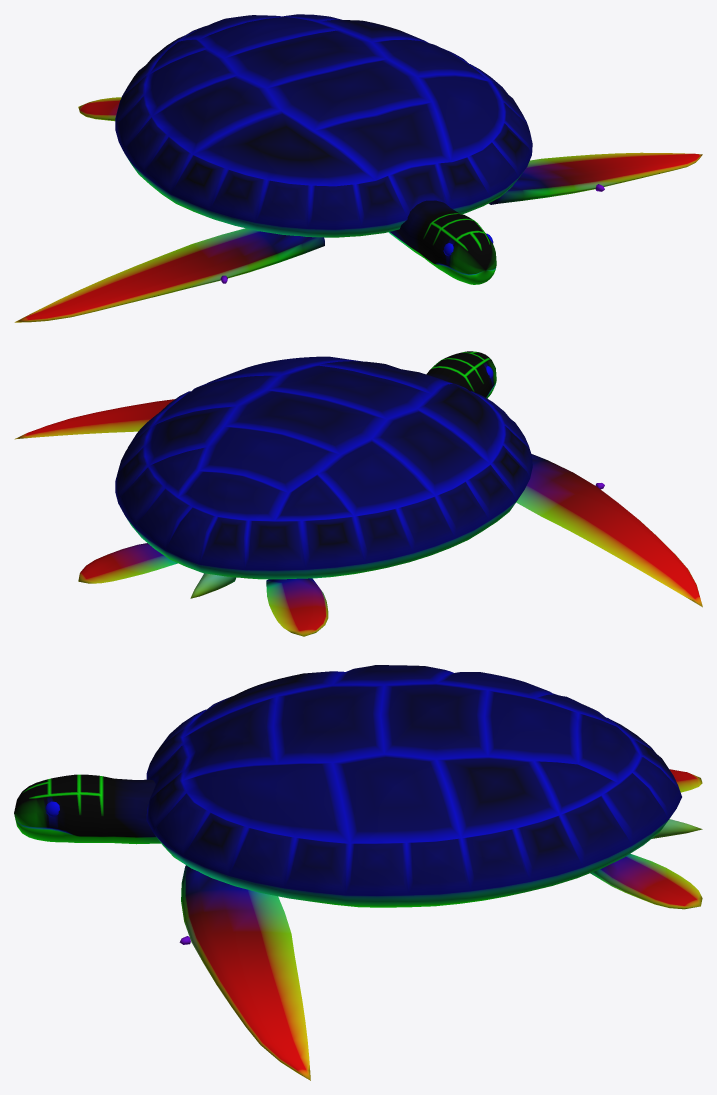
File: turtle.glb
The picture shows the model from 3 angles, top to bottom: view 1: azimuth 30°, elevation 25°; view 2: azimuth 150°, elevation 25°; view 3: azimuth 270°, elevation 25°; orthographic projection. The views are drawn at different scales.
Parts seen in each view (by area): view 1: turtle; view 2: turtle; view 3: turtle.
Boxes of the visible parts, box(x1,y1,x2,y2) form: turtle: box(14, 14, 702, 322); turtle: box(14, 351, 702, 636); turtle: box(14, 665, 702, 1080).
Bounding box in the file's own units: 2.29 × 0.4757 × 1.7.
